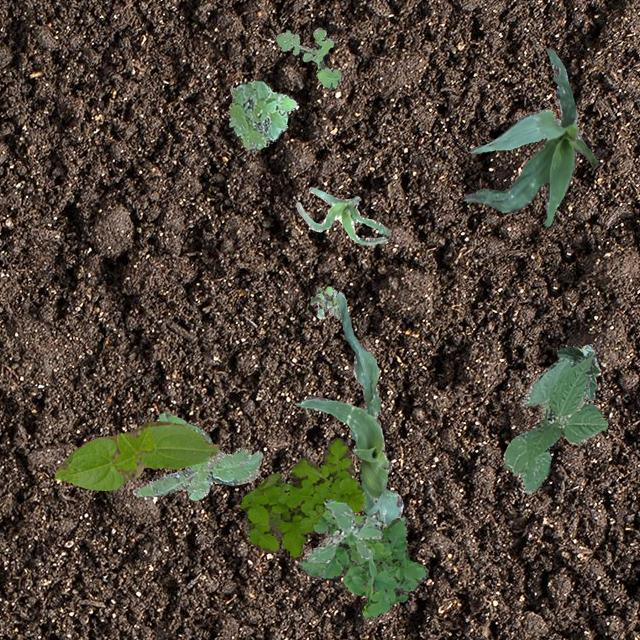crop: (294, 292, 402, 526), (462, 48, 598, 226), (502, 351, 606, 494), (54, 420, 218, 490), (294, 187, 390, 244), (556, 344, 598, 399)
weed: (238, 437, 364, 558), (296, 508, 426, 616), (132, 412, 262, 499), (304, 498, 382, 562), (228, 80, 296, 152), (276, 27, 340, 88), (308, 286, 339, 318)
